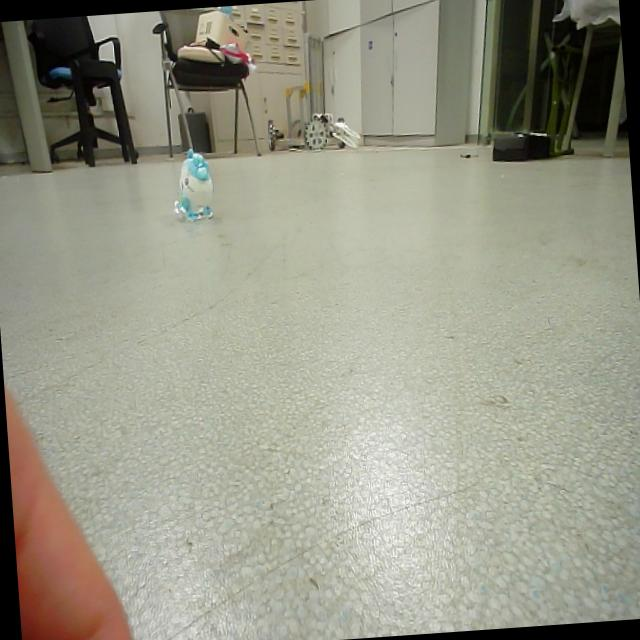xiaoba: (168, 152, 210, 227)
